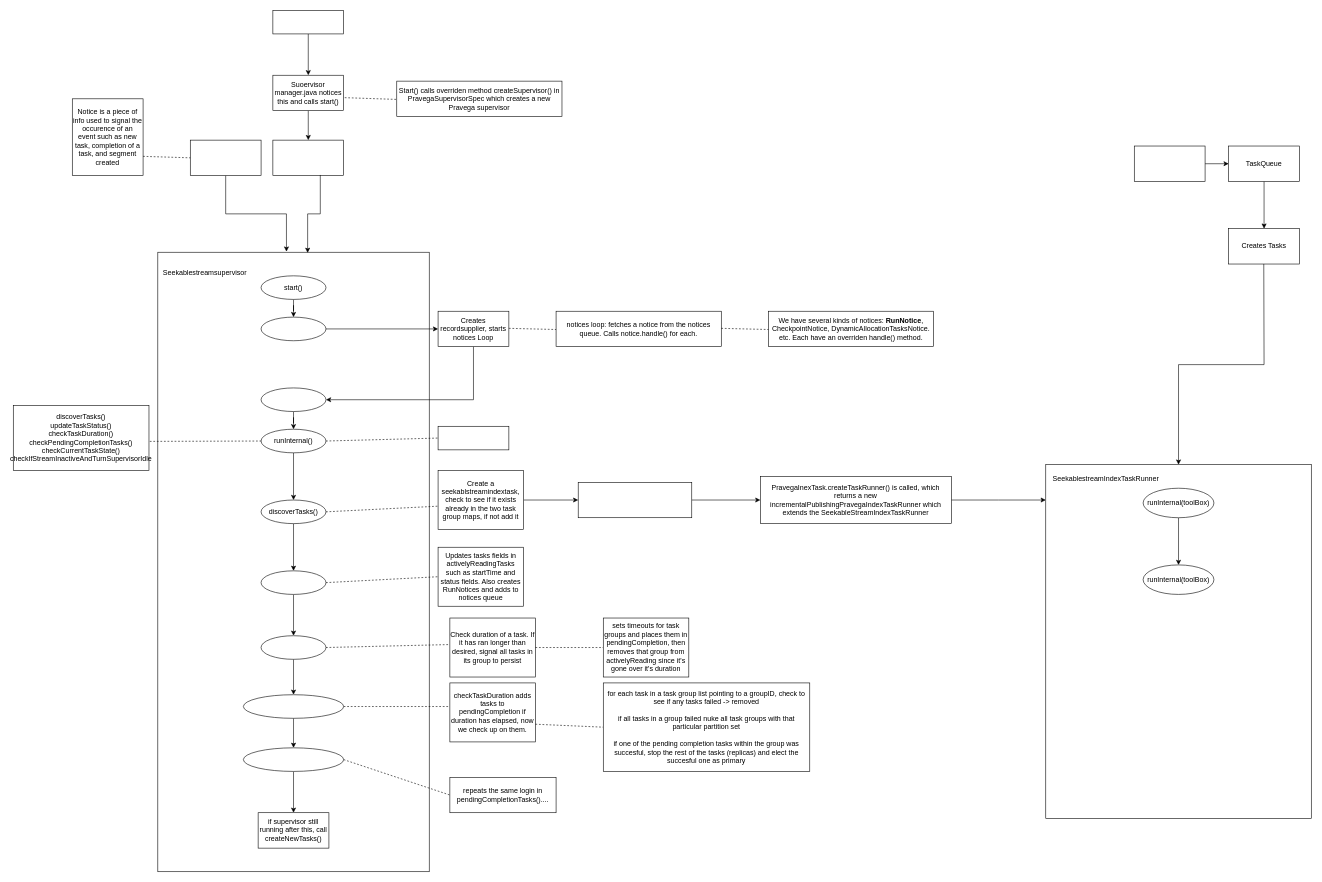
Some shapes in this 1322 by 882 pixel diagram are drawn without their labels. Each missing label, with the centre of its shape:
"checkCurrentTaskState" goes at (293,759).
"checkPendingCompletionTasks" goes at (293,706).
"checkTaskDuration()" goes at (293,647).
"In the seekableStreamIndexTask constructor, createTaskRunner() is called." goes at (635,500).
"Notice comes in about a new indexing task" goes at (225,158).
"Once we create supervisor, we call seekable stream supervisor's start()" goes at (308,158).
"Ran for each RunNotice" goes at (473,438).
"RunNotice.handle()" goes at (293,399).
"Task Master" goes at (1169,163).
"tryInit()" goes at (293,329).
"updateTaskStatus()" goes at (293,582).
"Web console generates spec" goes at (308,22).
